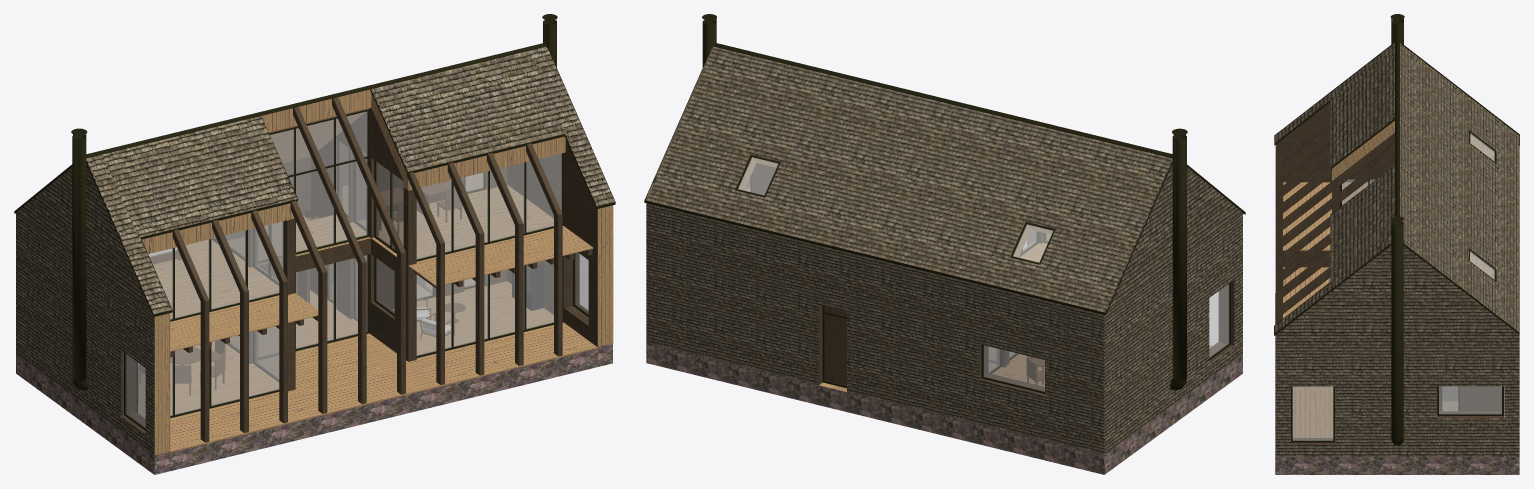
File: cottage_b72f3de4.glb
The picture shows the model from 3 angles, left to right: view 1: azimuth 30°, elevation 25°; view 2: azimuth 150°, elevation 25°; view 3: azimuth 270°, elevation 25°; orthographic projection. The views are drawn at different scales.
Visible parts, largest first — view 1: cottage_b72f3de4; view 2: cottage_b72f3de4; view 3: cottage_b72f3de4.
Boxes of the visible parts, x1=… form: cottage_b72f3de4: x1=14, y1=14, x2=615, y2=474; cottage_b72f3de4: x1=644, y1=14, x2=1245, y2=474; cottage_b72f3de4: x1=1274, y1=14, x2=1519, y2=474.
Size of the model in its own units: 15.73 by 9.12 by 7.86.
13 materials, 6 textured.
